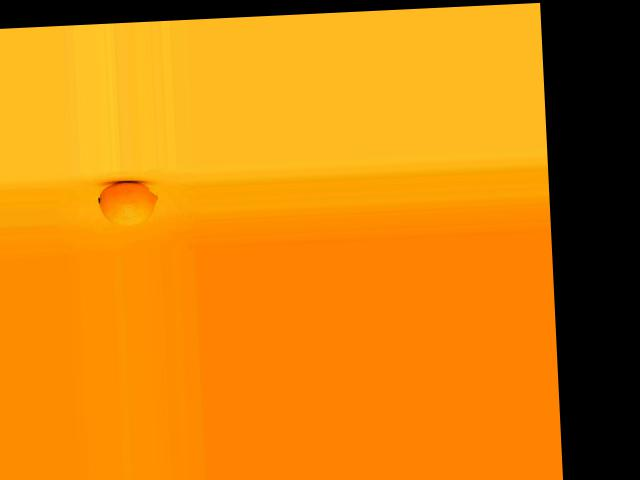lemon: (91, 181, 169, 229)
